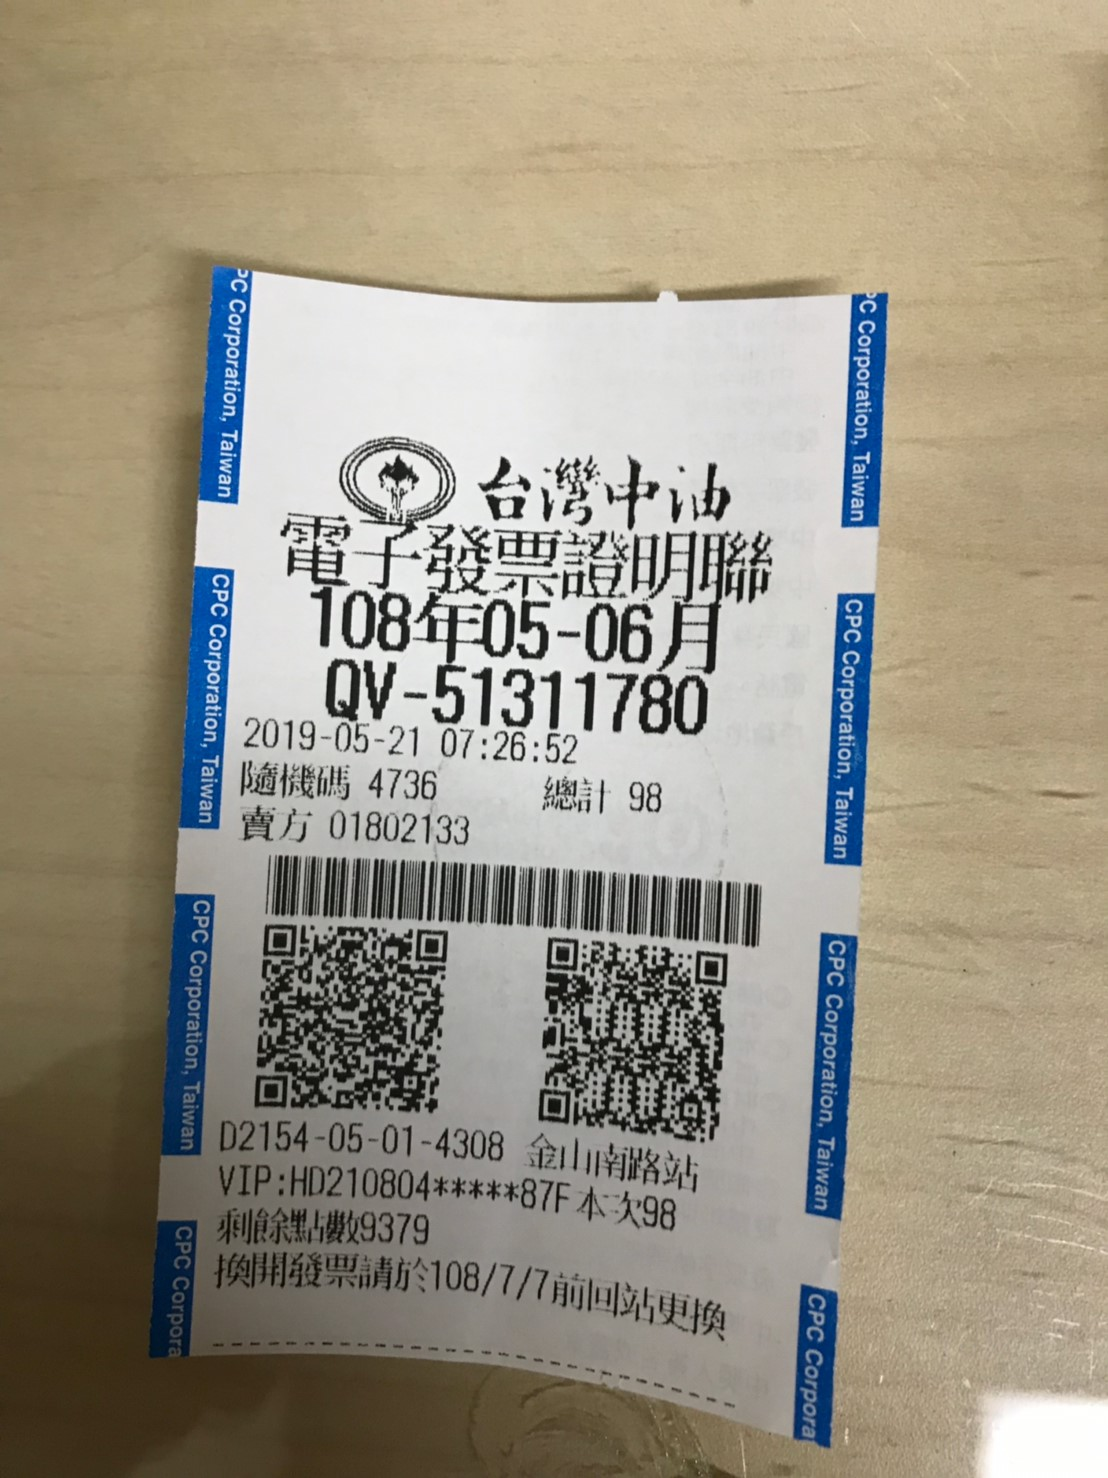Date_New: (312, 585, 724, 678)
Number_New: (428, 661, 713, 736)
